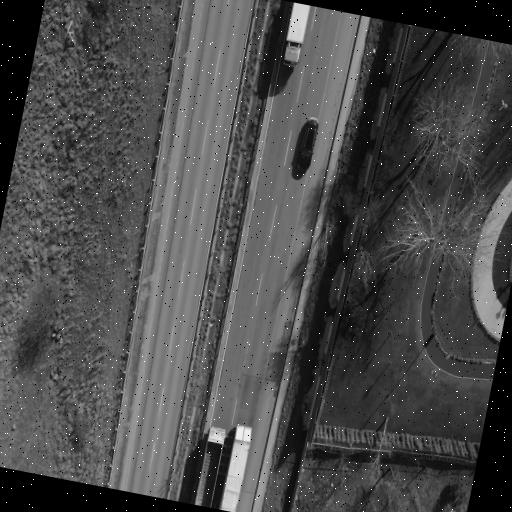UAI: (195, 425, 252, 511), (221, 424, 252, 511), (196, 426, 226, 507), (284, 3, 310, 66)
harvester: (298, 117, 319, 170)
